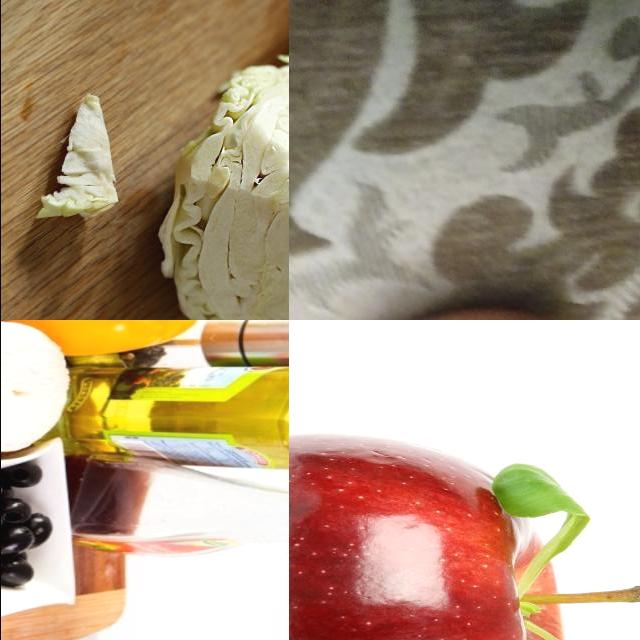bell_pepper: (1, 321, 214, 358)
cabbage: (160, 59, 289, 321)
